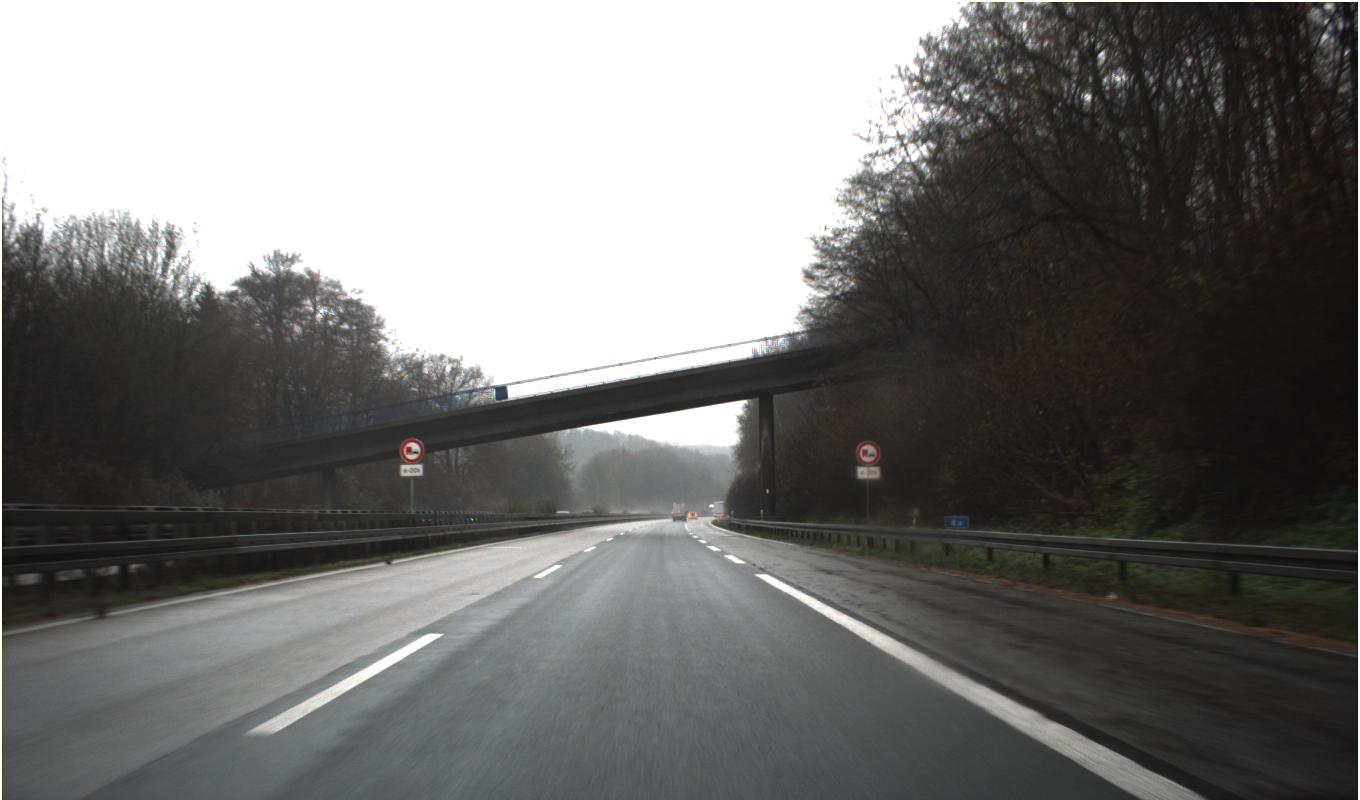prohibitory: (854, 438, 881, 466), (398, 437, 425, 464)
